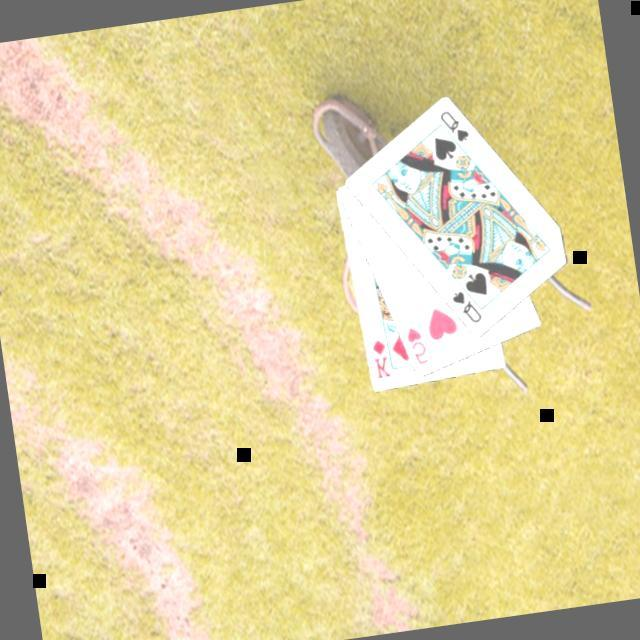5H: (400, 324, 430, 371)
KD: (365, 336, 392, 384)
QS: (447, 286, 485, 330), (434, 105, 472, 149)
